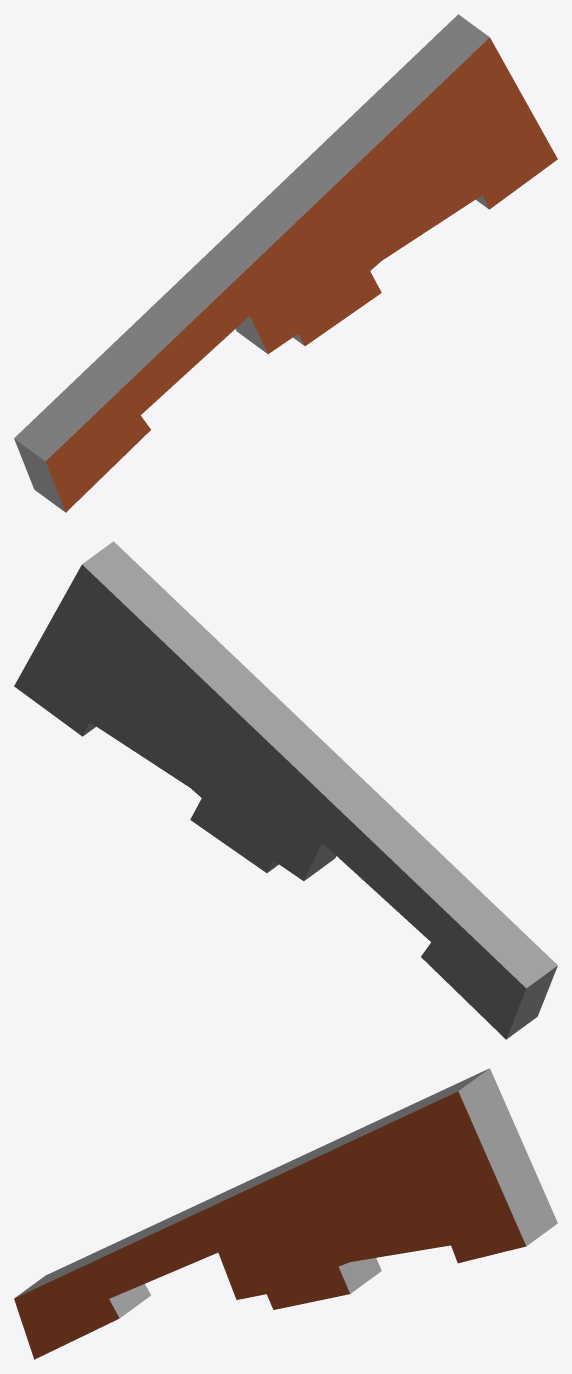
Rendered from construction_5721_assumed_A_Casa_h6m.obj.
3 views of the same model, one above another, from view 1: azimuth 30°, elevation 25°; view 2: azimuth 150°, elevation 25°; view 3: azimuth 330°, elevation 25° (orthographic).
Visible parts, largest first — view 1: construction_5721_assumed_A_Casa; view 2: construction_5721_assumed_A_Casa; view 3: construction_5721_assumed_A_Casa.
Part boxes in pixels (x1,y1,x2,y2): construction_5721_assumed_A_Casa: [14, 14, 557, 512]; construction_5721_assumed_A_Casa: [14, 541, 557, 1039]; construction_5721_assumed_A_Casa: [14, 1068, 557, 1359].
Size of the model in its own units: 56.21 by 38.99 by 6.
